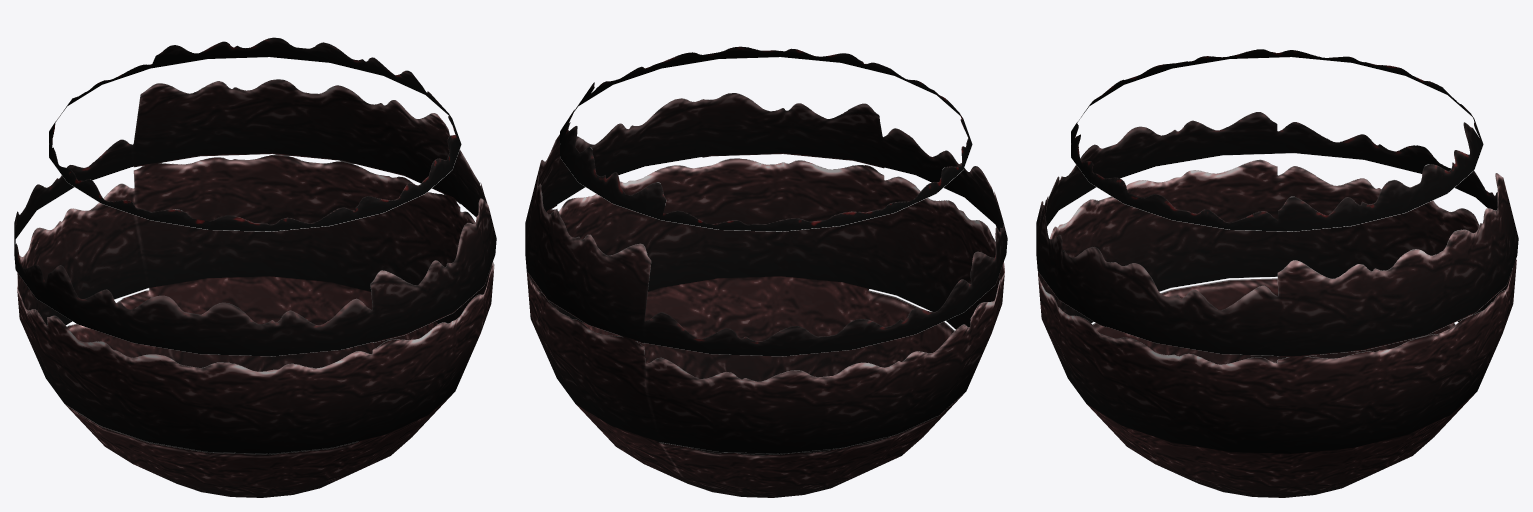
File: VFX_IT_PUP_ST_004_Greasy.FBX
The picture shows the model from 3 angles, left to right: view 1: azimuth 30°, elevation 25°; view 2: azimuth 150°, elevation 25°; view 3: azimuth 270°, elevation 25°; orthographic projection.
Parts seen in each view (by area): view 1: VFX_IT_PUP_ST_004_Greasy; view 2: VFX_IT_PUP_ST_004_Greasy; view 3: VFX_IT_PUP_ST_004_Greasy.
Boxes of the visible parts, x1=… form: VFX_IT_PUP_ST_004_Greasy: x1=14, y1=37, x2=496, y2=497; VFX_IT_PUP_ST_004_Greasy: x1=525, y1=46, x2=1007, y2=497; VFX_IT_PUP_ST_004_Greasy: x1=1036, y1=49, x2=1518, y2=497.
Bounding box in the file's own units: 23.89 × 24.02 × 23.82.
Materials: 1 (1 with a texture image).
